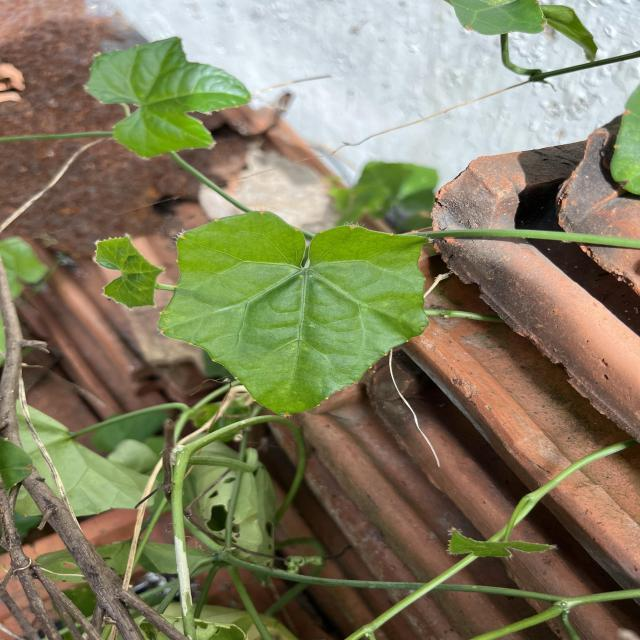Coccinia grandis: (154, 208, 433, 418)
